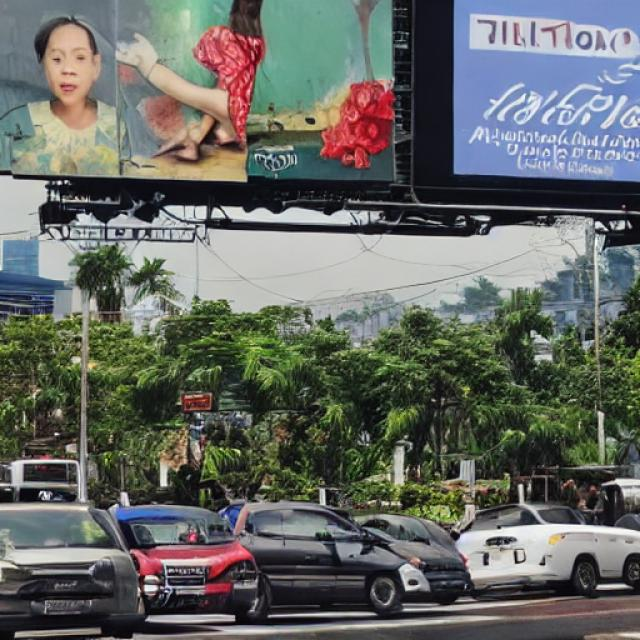Billboard: (0, 0, 401, 192), (443, 0, 640, 182)
